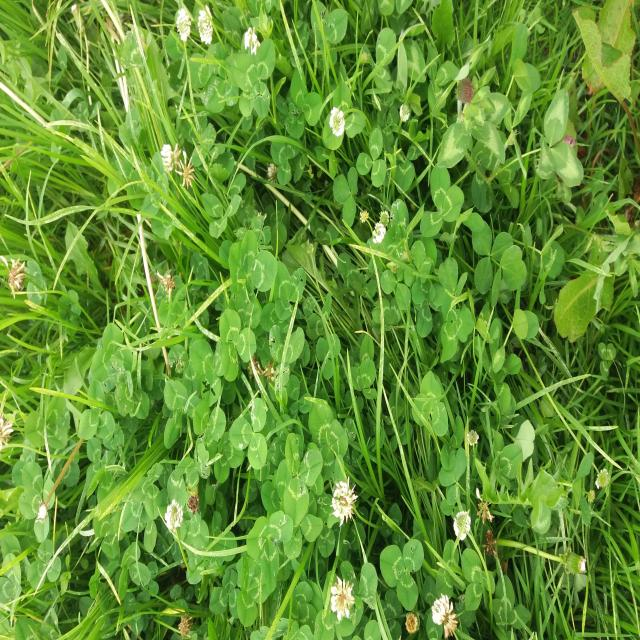Four Leaf Clover: (229, 231, 278, 306)
